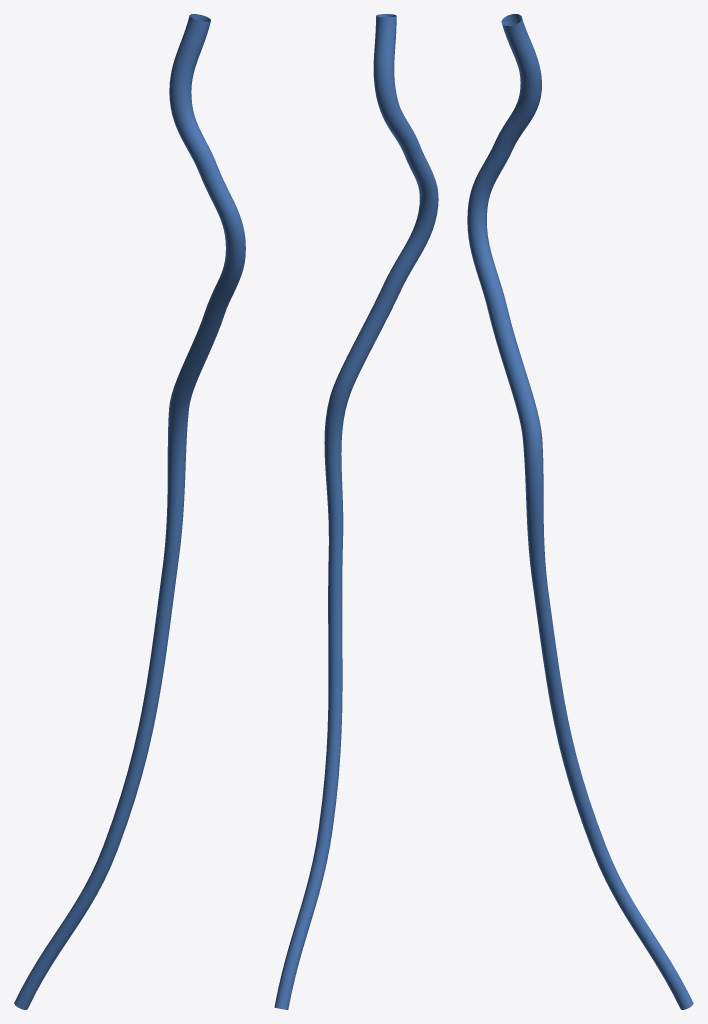
The picture shows the model from 3 angles, left to right: view 1: azimuth 90°, elevation 25°; view 2: azimuth 150°, elevation 25°; view 3: azimuth 270°, elevation 25°; orthographic projection. The views are drawn at different scales.
Parts seen in each view (by area): view 1: 右侧足底内侧静脉; view 2: 右侧足底内侧静脉; view 3: 右侧足底内侧静脉.
Part boxes in pixels (bbox=[...]): 右侧足底内侧静脉: bbox=[14, 14, 245, 1009]; 右侧足底内侧静脉: bbox=[274, 14, 438, 1009]; 右侧足底内侧静脉: bbox=[467, 14, 693, 1009].
Bounding box in the file's own units: 0.0139 × 0.147 × 0.0308.
